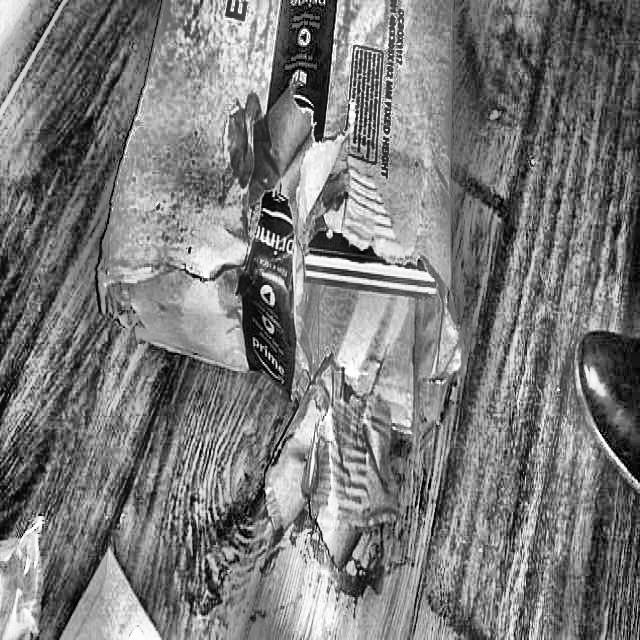box: (85, 0, 470, 582)
hole: (269, 218, 464, 436)
